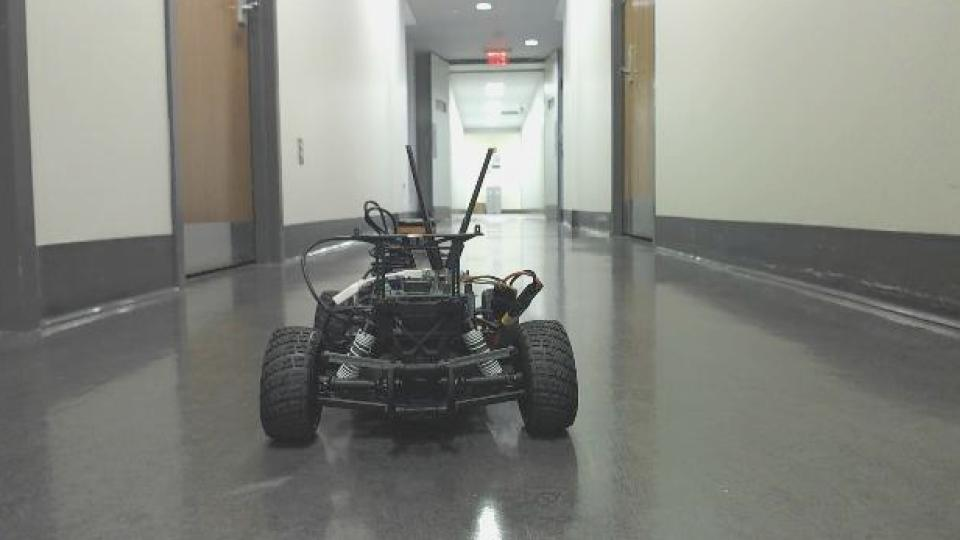car: (255, 142, 583, 448)
